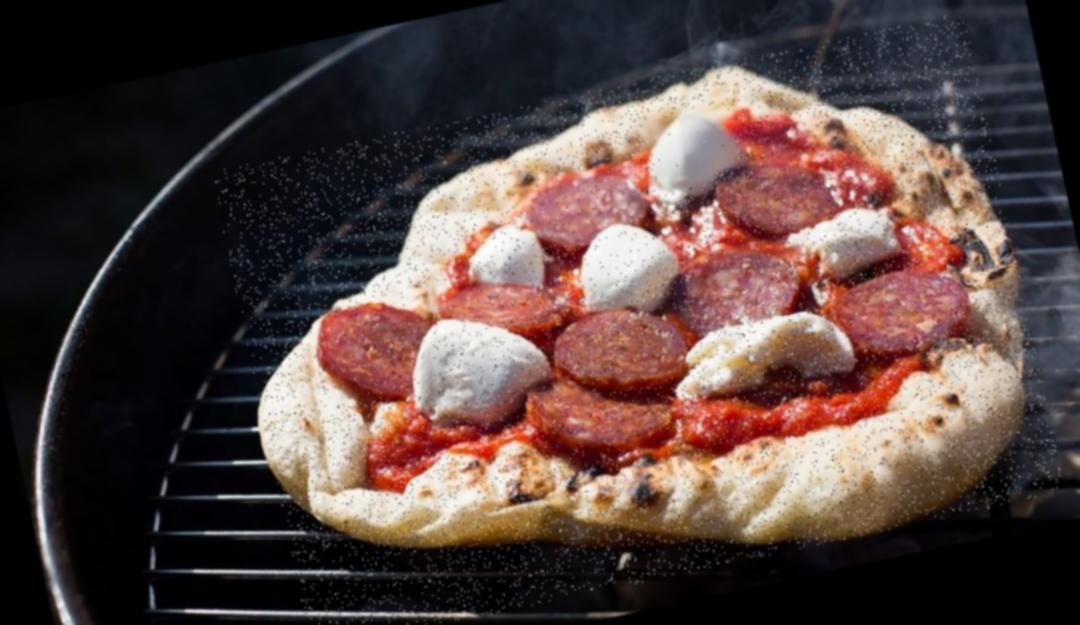Cheese: (406, 296, 554, 427), (664, 302, 858, 397), (574, 218, 684, 310), (645, 104, 743, 194), (798, 199, 900, 281), (464, 217, 550, 298)
Pepperoni: (520, 346, 682, 474), (310, 292, 448, 408), (666, 232, 814, 334), (550, 296, 689, 402), (831, 260, 979, 352), (518, 159, 653, 250), (714, 146, 841, 240), (435, 261, 569, 349)
Pizza: (210, 12, 1065, 625)
